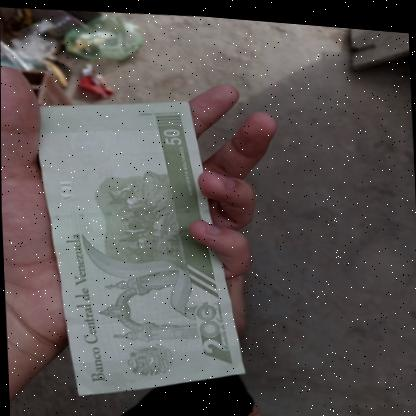fifty-back-vef: (34, 86, 247, 407)
